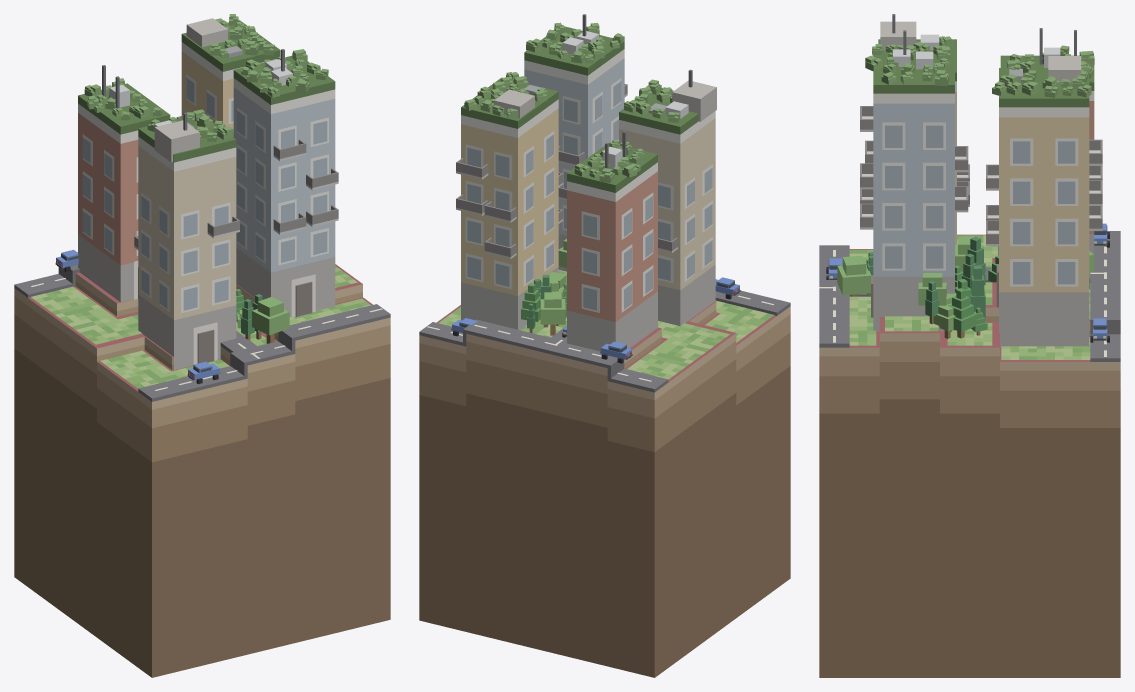
Rendered from block_24_greenroof_50.glb.
3 views of the same model, side by side, from view 1: azimuth 30°, elevation 25°; view 2: azimuth 150°, elevation 25°; view 3: azimuth 270°, elevation 25° (orthographic). The views are drawn at different scales.
Parts seen in each view (by area): view 1: Patch_UpperRight_b24_GR, ResidBldgs_b24_GR, Green_UpperRight_b24_GR, Roads_UpperRight_b24_GR, GR_Roof_ResidBldgs_b24_GR, URTree_24_17_GR; view 2: Patch_UpperRight_b24_GR, ResidBldgs_b24_GR, GR_Roof_ResidBldgs_b24_GR, Roads_UpperRight_b24_GR, Green_UpperRight_b24_GR, URTree_24_0_GR; view 3: Patch_UpperRight_b24_GR, ResidBldgs_b24_GR, Roads_UpperRight_b24_GR, Green_UpperRight_b24_GR, GR_Roof_ResidBldgs_b24_GR, URTree_24_17_GR, URTree_24_28_GR, URTree_24_25_GR, URTree_24_19_GR, URTree_24_20_GR.
Boxes of the visible parts, x1=… form: Patch_UpperRight_b24_GR: x1=14, y1=264, x2=390, y2=677; ResidBldgs_b24_GR: x1=78, y1=18, x2=338, y2=370; Green_UpperRight_b24_GR: x1=31, y1=266, x2=370, y2=388; Roads_UpperRight_b24_GR: x1=14, y1=264, x2=390, y2=401; GR_Roof_ResidBldgs_b24_GR: x1=78, y1=20, x2=335, y2=162; URTree_24_17_GR: x1=252, y1=297, x2=289, y2=343; Patch_UpperRight_b24_GR: x1=419, y1=301, x2=790, y2=677; ResidBldgs_b24_GR: x1=456, y1=14, x2=716, y2=351; GR_Roof_ResidBldgs_b24_GR: x1=461, y1=26, x2=698, y2=192; Roads_UpperRight_b24_GR: x1=419, y1=290, x2=790, y2=392; Green_UpperRight_b24_GR: x1=438, y1=270, x2=773, y2=379; URTree_24_0_GR: x1=540, y1=292, x2=565, y2=335; Patch_UpperRight_b24_GR: x1=819, y1=234, x2=1120, y2=677; ResidBldgs_b24_GR: x1=860, y1=14, x2=1102, y2=346; Roads_UpperRight_b24_GR: x1=819, y1=231, x2=1120, y2=361; Green_UpperRight_b24_GR: x1=849, y1=235, x2=1090, y2=359; GR_Roof_ResidBldgs_b24_GR: x1=873, y1=39, x2=1094, y2=107; URTree_24_17_GR: x1=837, y1=255, x2=870, y2=296; URTree_24_28_GR: x1=948, y1=288, x2=978, y2=338; URTree_24_25_GR: x1=918, y1=273, x2=946, y2=305; URTree_24_19_GR: x1=970, y1=265, x2=985, y2=318; URTree_24_20_GR: x1=933, y1=303, x2=955, y2=338.
Bounding box in the file's own units: 9.5 × 21.24 × 9.5.
